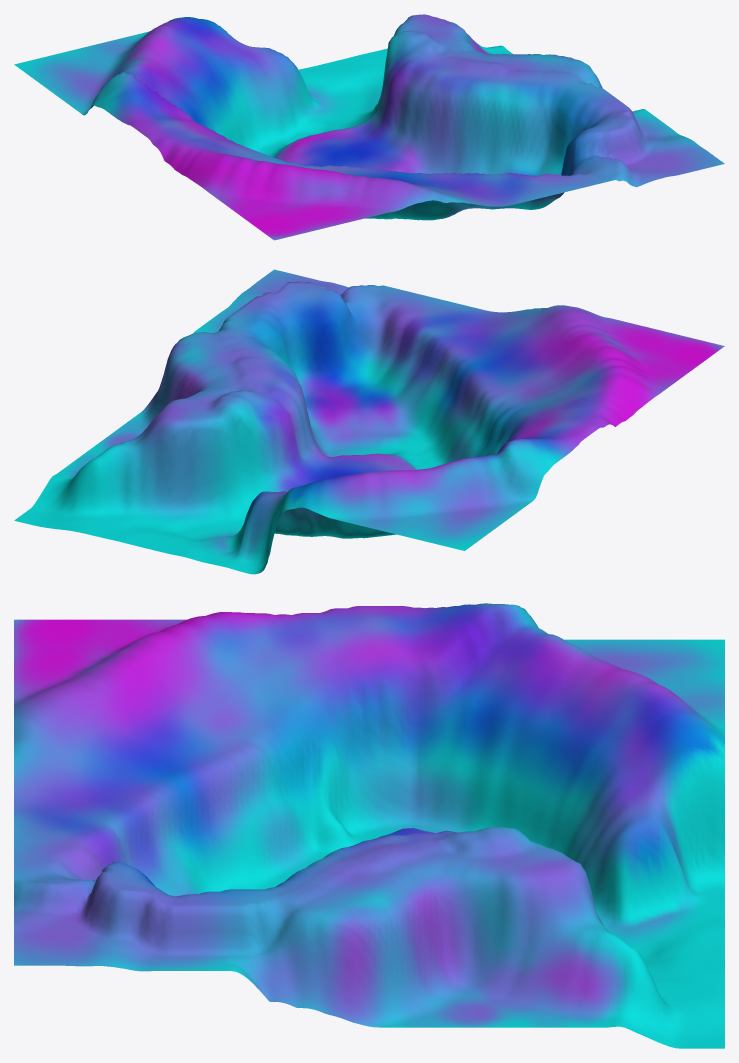
Rendered from Valley.fbx.
3 renders of one model, top to bottom at view 1: azimuth 30°, elevation 25°; view 2: azimuth 150°, elevation 25°; view 3: azimuth 270°, elevation 25°, orthographic. The views are drawn at different scales.
Parts seen in each view (by area): view 1: Plane; view 2: Plane; view 3: Plane.
Boxes of the visible parts, <box> form: Plane: <box>14,14,724,240</box>; Plane: <box>14,269,724,574</box>; Plane: <box>14,603,724,1048</box>.
Bounding box in the file's own units: 30000 × 7922 × 30000.
